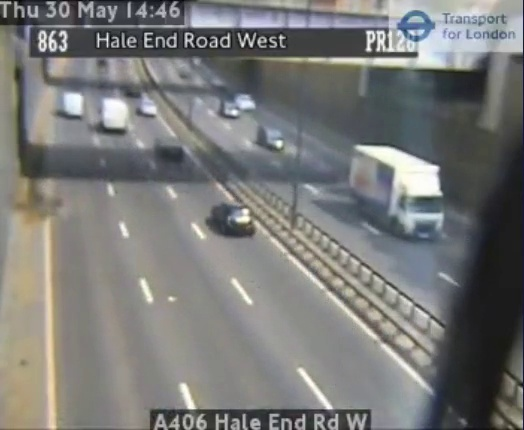car: (213, 203, 253, 233)
van: (101, 99, 127, 129), (61, 93, 82, 116)
